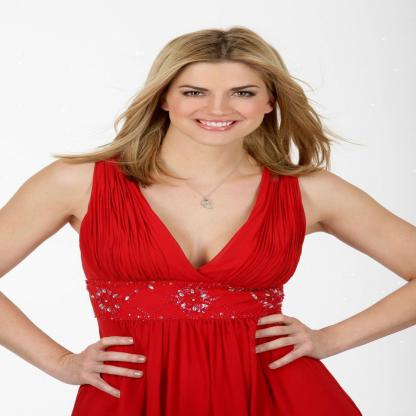long-hair: (89, 145, 347, 167)
